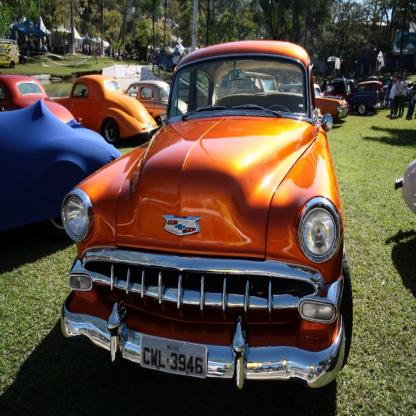Car: (1, 41, 416, 390)
